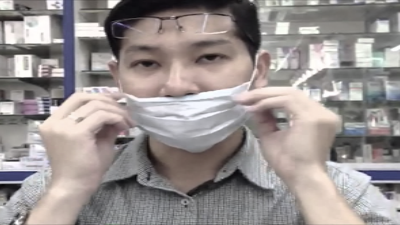mask_weared_incorrect: (114, 37, 254, 154)
